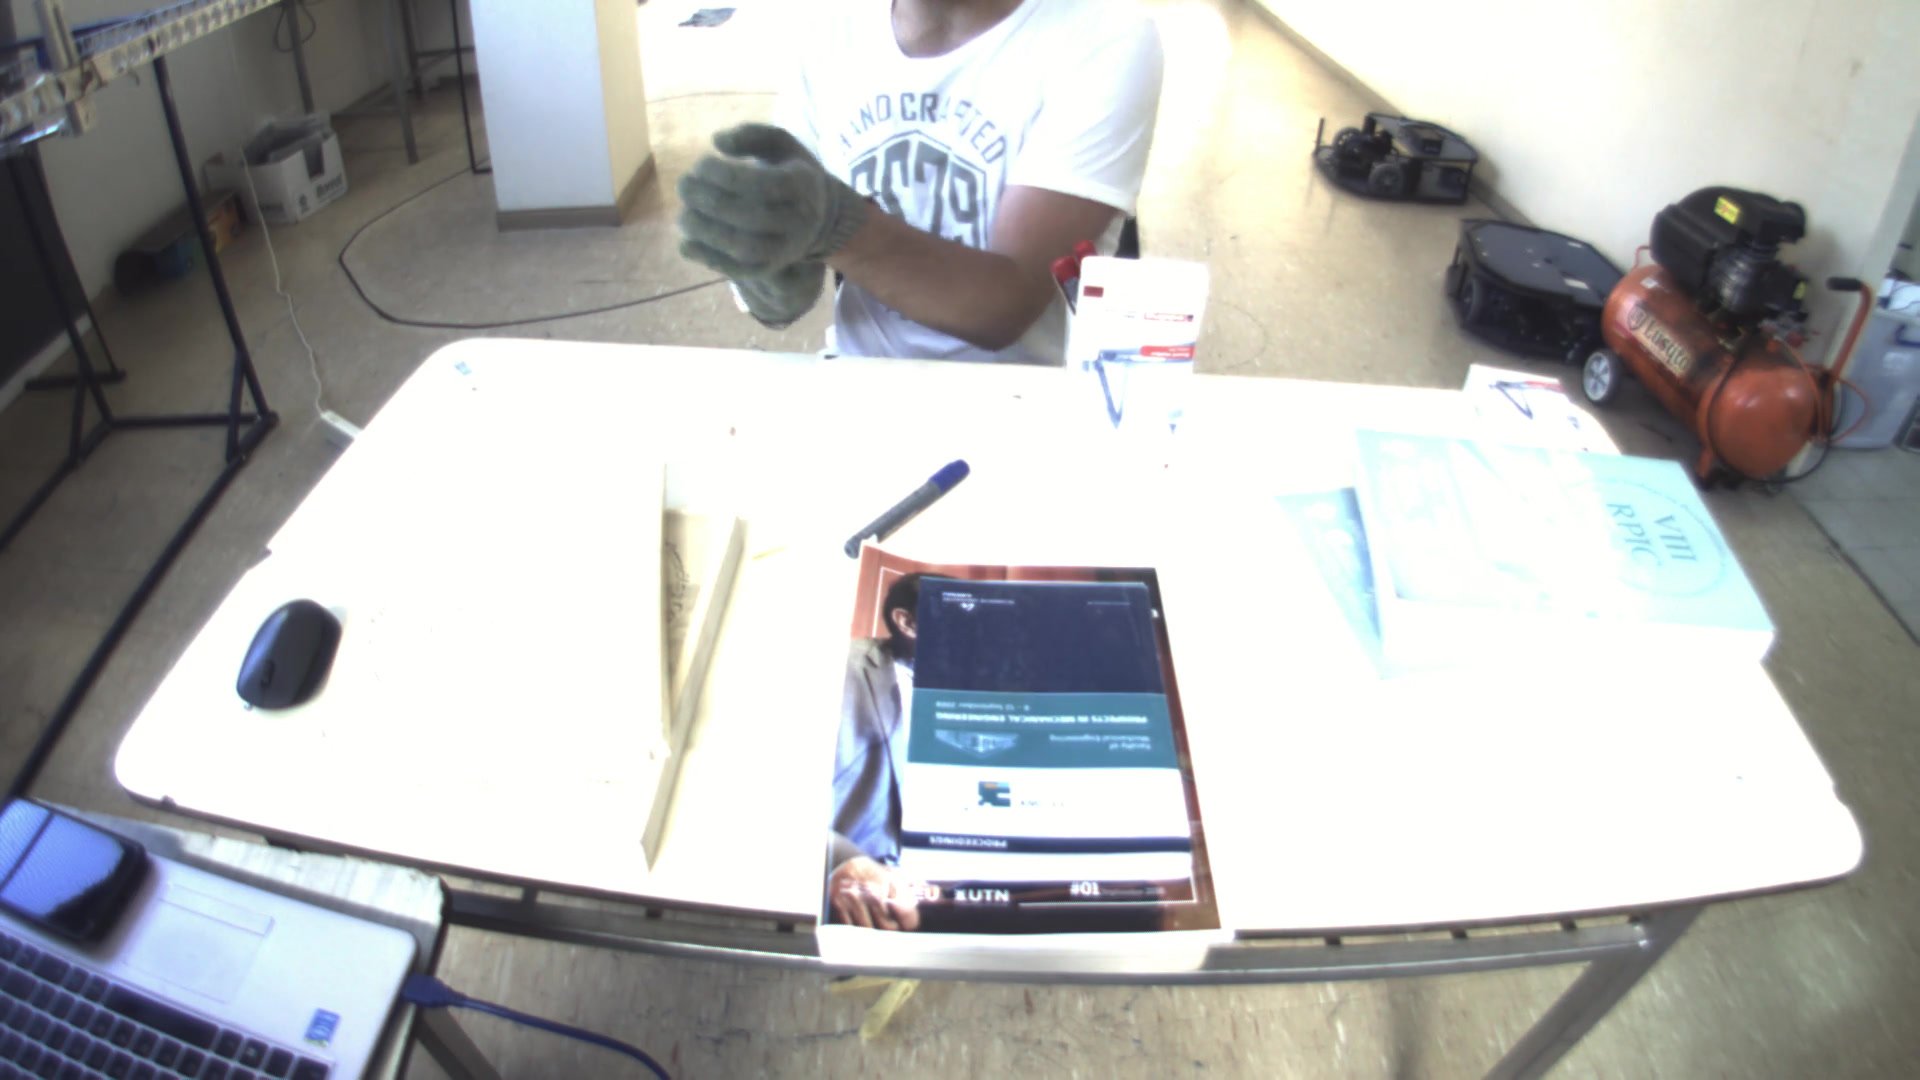hand: (663, 117, 868, 280)
